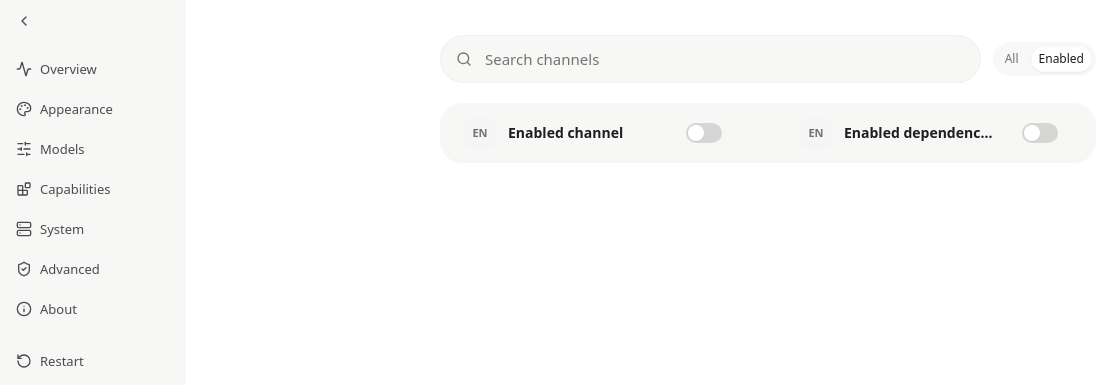
Scenario: Settings channels › shows enabled channels by default when any are enabled
The width and height of the screenshot is (1110, 385).
Expected: the button with aria-label "View Enabled channel settings" is shown, [464,117,660,149]
Expected: the button with aria-label "View Enabled dependency channel settings" is shown, [800,117,996,149]
Click the button "All" at (1012, 59), box [997,46,1027,72]
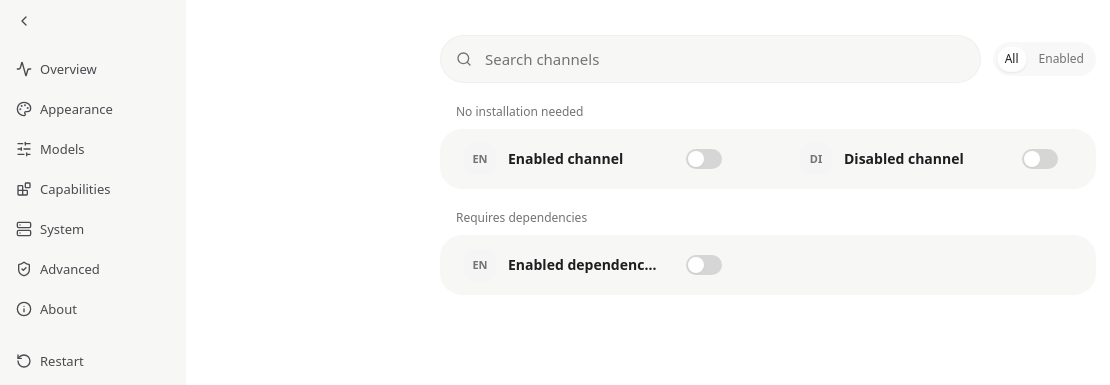
Result: the button with aria-label "View Disabled channel settings" is shown at [800,143,996,175]
